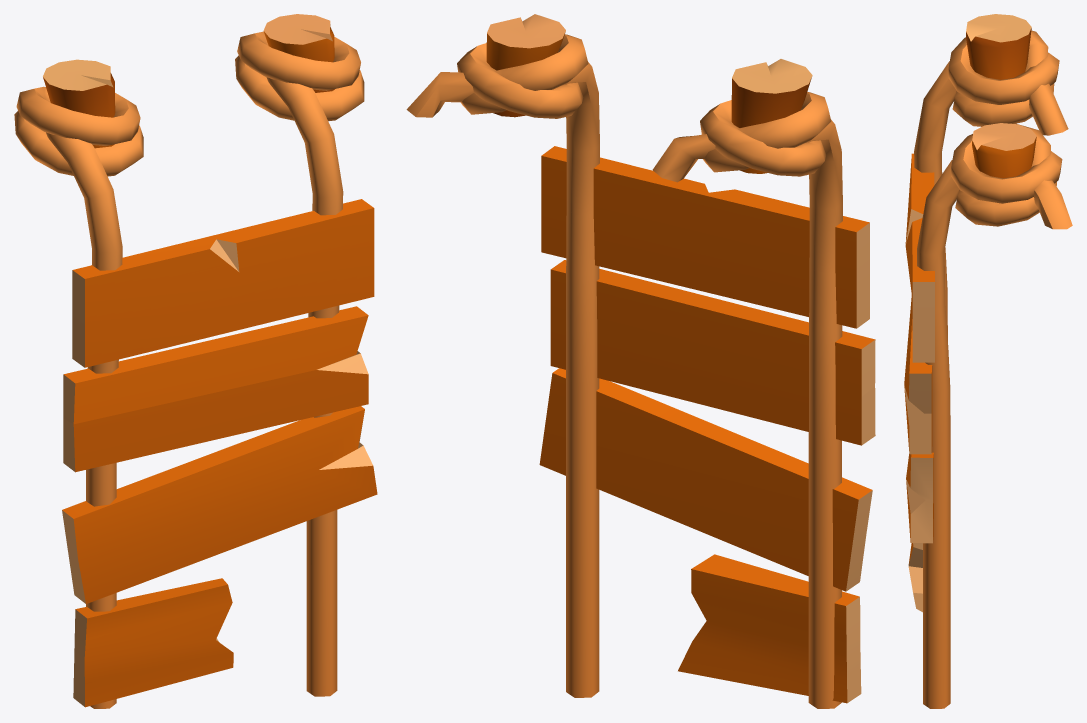
File: Prop_Broken_Rope_Bridge_01.fbx
The picture shows the model from 3 angles, left to right: view 1: azimuth 30°, elevation 25°; view 2: azimuth 150°, elevation 25°; view 3: azimuth 270°, elevation 25°; orthographic projection. The views are drawn at different scales.
Visible parts, largest first — view 1: Prop_Broken_Rope_Bridge_01; view 2: Prop_Broken_Rope_Bridge_01; view 3: Prop_Broken_Rope_Bridge_01.
Part boxes in pixels (x1,y1,x2,y2): Prop_Broken_Rope_Bridge_01: (14,14,377,708); Prop_Broken_Rope_Bridge_01: (406,14,875,708); Prop_Broken_Rope_Bridge_01: (904,14,1072,708).
Size of the model in its own units: 127 by 222 by 58.1.
